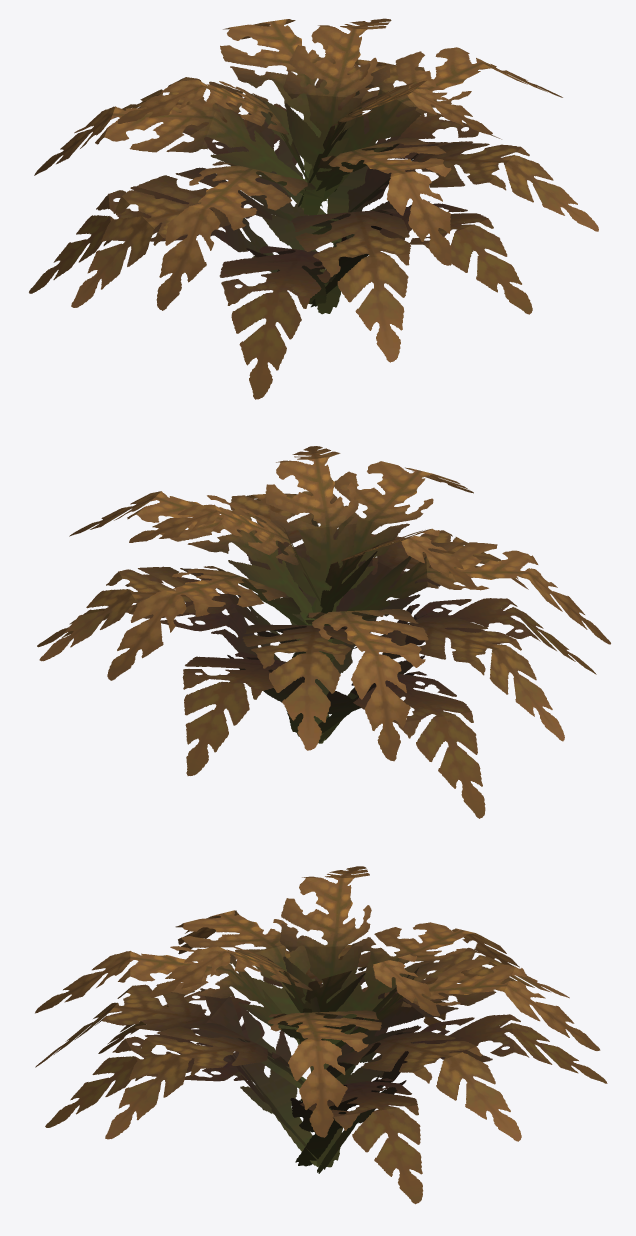
The model's file is broadleaf_dead_01.fbx.
3 views of the same model, one above another, from view 1: azimuth 30°, elevation 25°; view 2: azimuth 150°, elevation 25°; view 3: azimuth 270°, elevation 25° (orthographic).
Parts seen in each view (by area): view 1: obj0.255; view 2: obj0.255; view 3: obj0.255.
Part boxes in pixels (x1,y1,x2,y2): obj0.255: [29, 18, 598, 399]; obj0.255: [37, 446, 610, 818]; obj0.255: [35, 866, 607, 1204].
Size of the model in its own units: 3.76 by 1.74 by 3.87.
